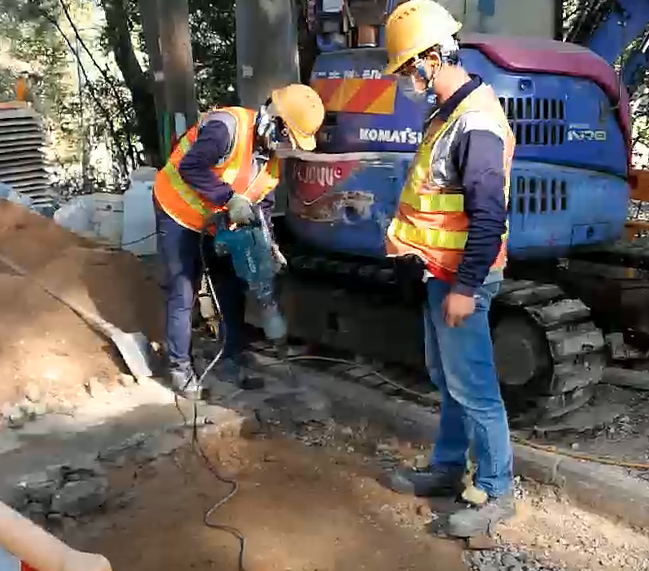Hard Hat: (380, 4, 464, 101), (257, 86, 328, 154)
Person: (385, 5, 520, 539), (152, 84, 324, 399)
Vest: (396, 76, 517, 284), (154, 106, 282, 236)
